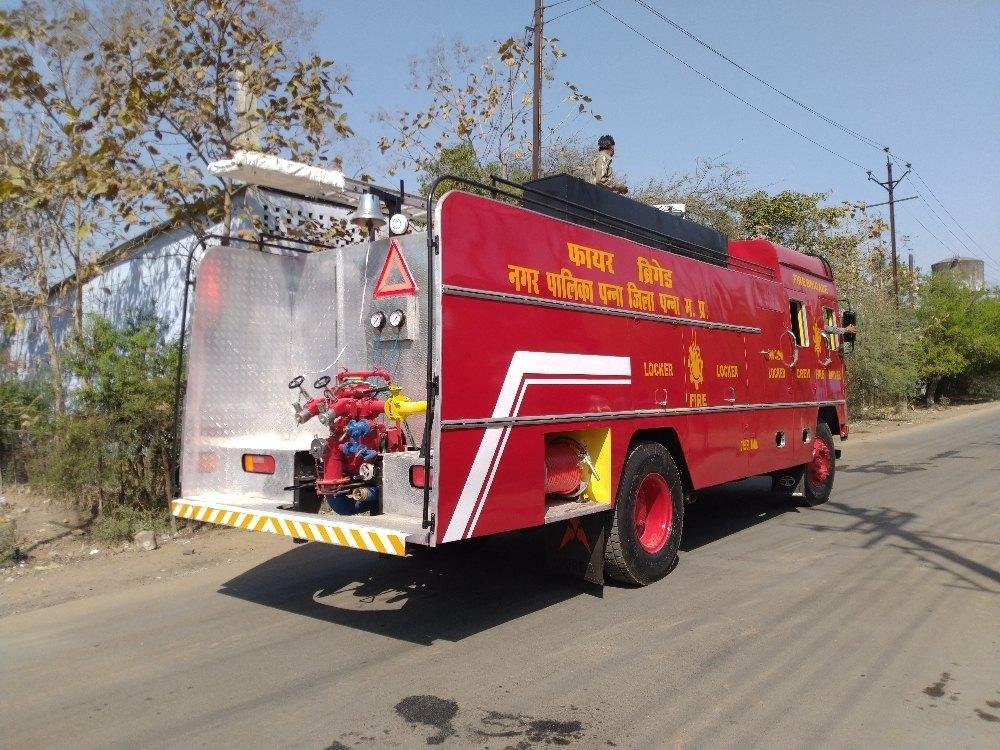Fire-engine: (169, 176, 856, 596), (286, 370, 428, 510), (534, 424, 609, 511), (561, 236, 624, 280), (679, 323, 714, 387), (635, 249, 681, 295), (637, 352, 679, 385), (684, 389, 717, 410)
